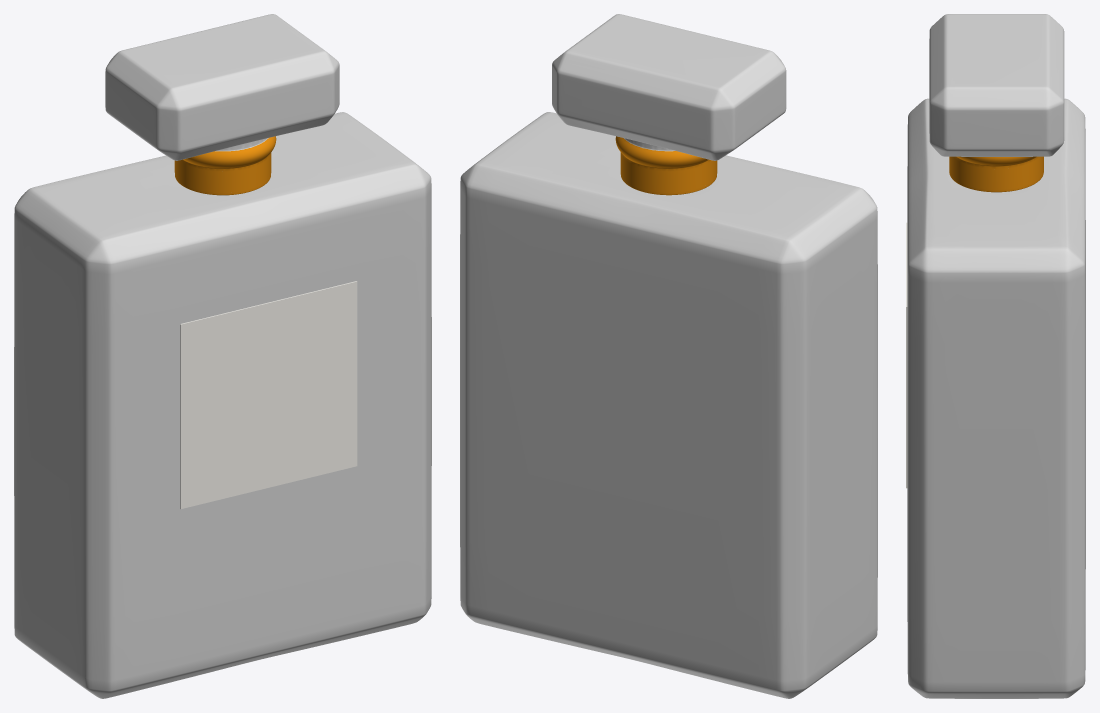
File: parfum.glb
3 renders of one model, left to right at view 1: azimuth 30°, elevation 25°; view 2: azimuth 150°, elevation 25°; view 3: azimuth 270°, elevation 25°, orthographic.
Parts seen in each view (by area): view 1: Bottle, label, Cap; view 2: Bottle, Cap; view 3: Bottle, Cap, label.
Part boxes in pixels (x1,y1,x2,y2): Bottle: (14,112,431,698); label: (180,281,357,508); Cap: (105,14,339,195); Bottle: (460,112,877,698); Cap: (552,14,786,195); Bottle: (907,98,1085,698); Cap: (929,14,1064,192); label: (906,222,907,488).
Size of the model in its own units: 1.62 by 2.6 by 0.7393.
